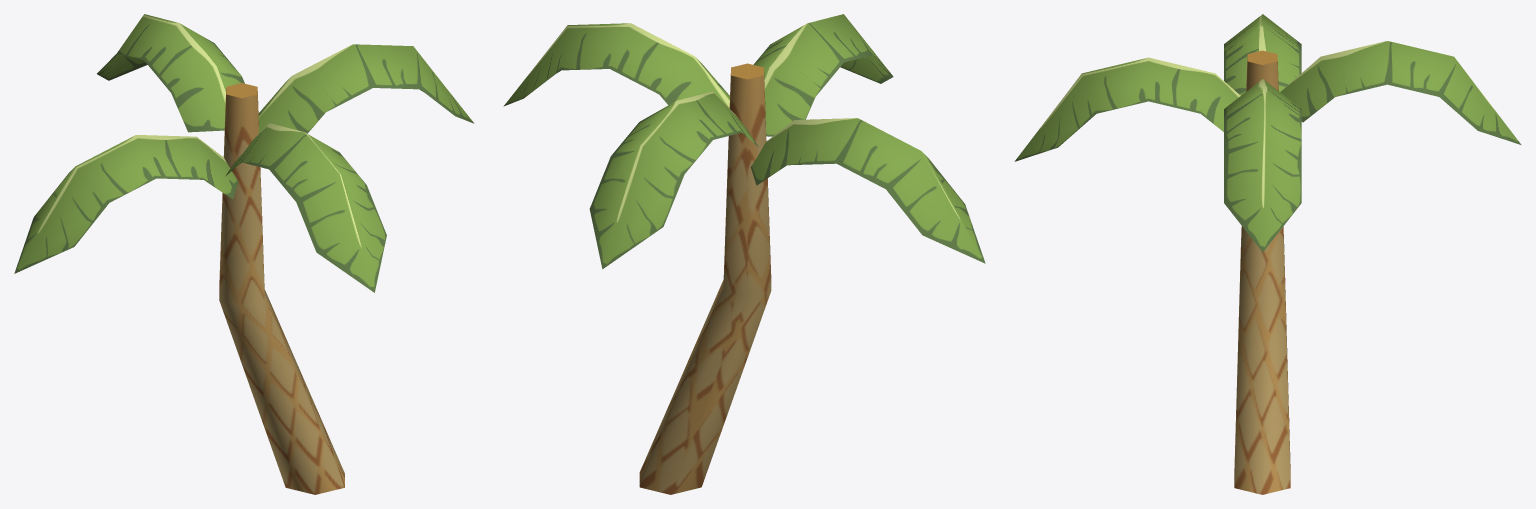
File: coqueiro02.FBX
3 renders of one model, left to right at view 1: azimuth 30°, elevation 25°; view 2: azimuth 150°, elevation 25°; view 3: azimuth 270°, elevation 25°, orthographic. The views are drawn at different scales.
Parts seen in each view (by area): view 1: troncoCoqueiro01, folhaCoqueiro004, folhaCoqueiro01, folhaCoqueiro002, folhaCoqueiro003; view 2: troncoCoqueiro01, folhaCoqueiro003, folhaCoqueiro01, folhaCoqueiro002, folhaCoqueiro004; view 3: troncoCoqueiro01, folhaCoqueiro002, folhaCoqueiro003, folhaCoqueiro004, folhaCoqueiro01.
Part boxes in pixels (x1=…): troncoCoqueiro01: x1=219, y1=83, x2=344, y2=494; folhaCoqueiro004: x1=225, y1=123, x2=386, y2=292; folhaCoqueiro01: x1=14, y1=135, x2=238, y2=273; folhaCoqueiro002: x1=258, y1=44, x2=474, y2=133; folhaCoqueiro003: x1=97, y1=14, x2=244, y2=132; troncoCoqueiro01: x1=639, y1=63, x2=771, y2=494; folhaCoqueiro003: x1=589, y1=91, x2=758, y2=269; folhaCoqueiro01: x1=750, y1=118, x2=985, y2=263; folhaCoqueiro002: x1=503, y1=23, x2=729, y2=108; folhaCoqueiro004: x1=753, y1=14, x2=893, y2=136; troncoCoqueiro01: x1=1234, y1=50, x2=1290, y2=494; folhaCoqueiro002: x1=1224, y1=79, x2=1301, y2=252; folhaCoqueiro003: x1=1280, y1=41, x2=1521, y2=144; folhaCoqueiro004: x1=1014, y1=57, x2=1240, y2=161; folhaCoqueiro01: x1=1224, y1=14, x2=1301, y2=95.
Bounding box in the file's own units: 187 × 166 × 187.
